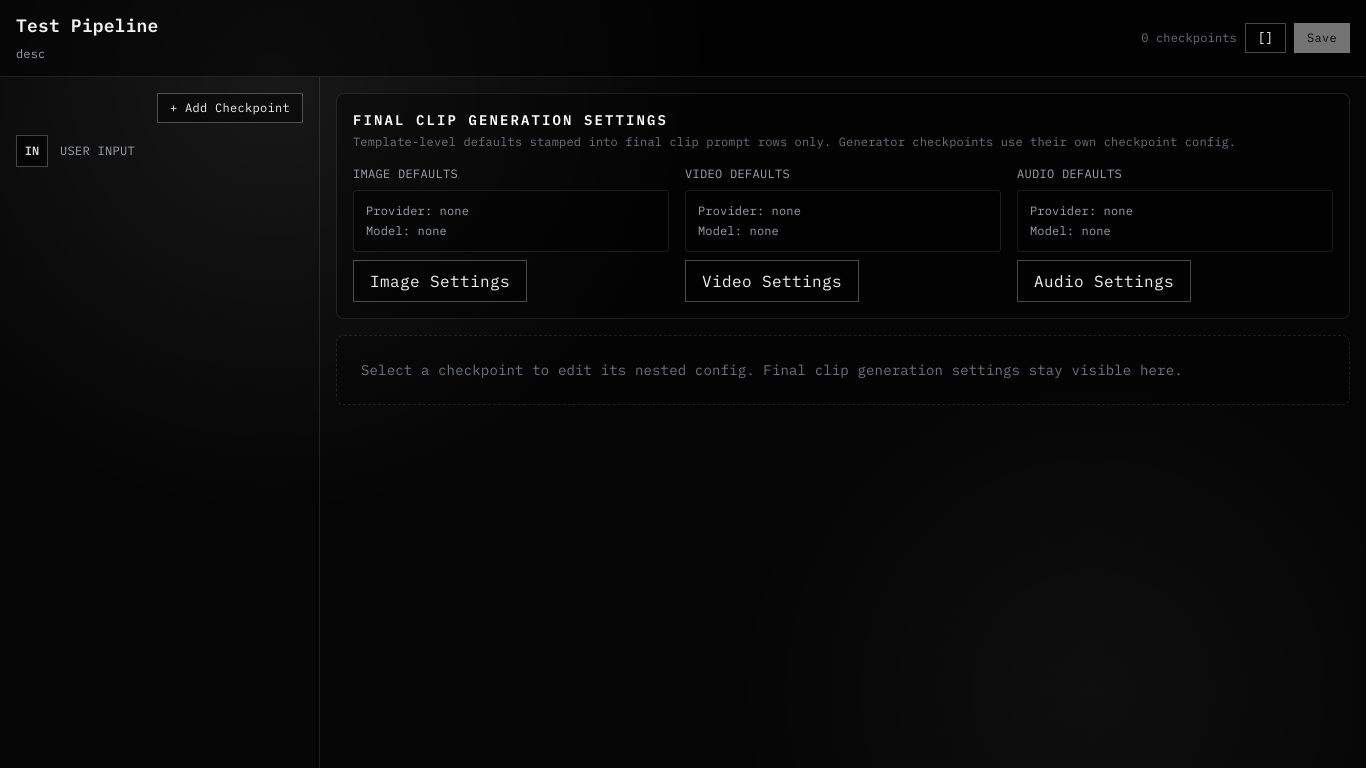
Test: PipelineEditor › opens image defaults selector inside the Image Settings modal
The width and height of the screenshot is (1366, 768).
What coordinates should you click on to do the following:
click the button "Image Settings"
I would click on:
 (440, 281)
Its box is [353, 260, 527, 302].
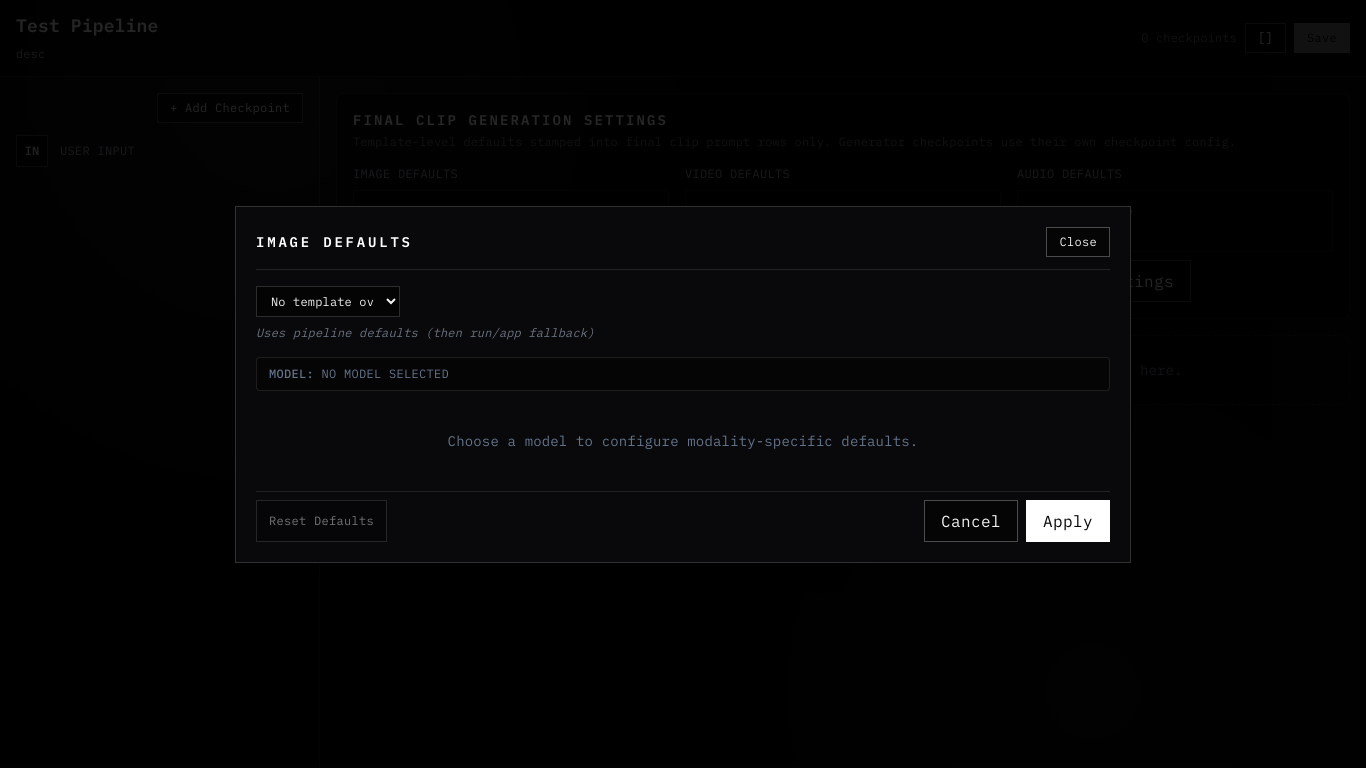
Check: the dropdown named "Image default provider" is shown, box [256, 286, 400, 316]
